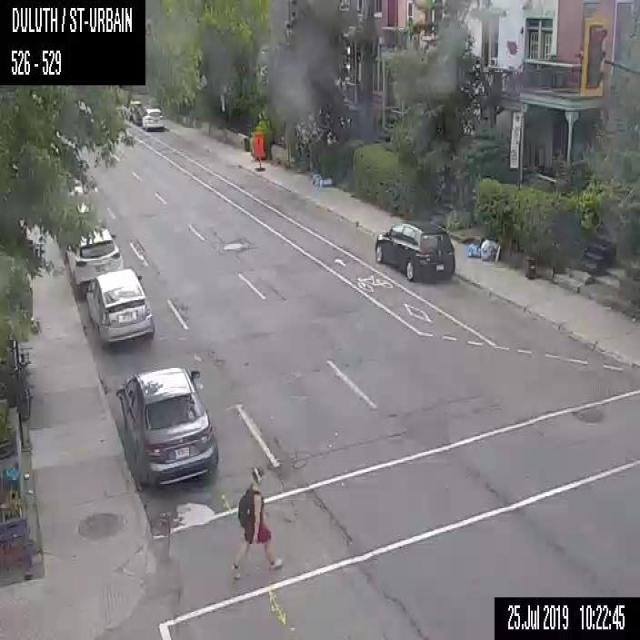construction: (254, 132, 265, 170)
pedestrian: (230, 465, 284, 580)
vehicle: (116, 365, 218, 489), (372, 218, 455, 282), (85, 269, 153, 343), (64, 224, 123, 292), (142, 108, 165, 130)
